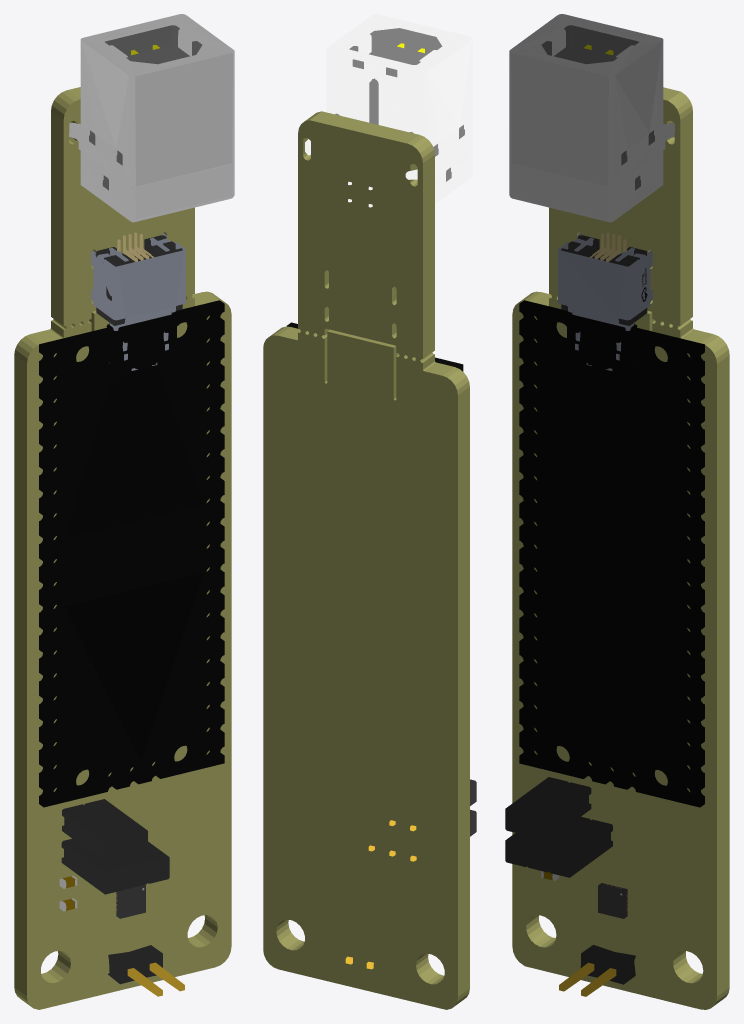
Rendered from OBJ_PCB_EasyEDA-Project - Pico audio maker.obj.
3 renders of one model, left to right at view 1: azimuth 30°, elevation 25°; view 2: azimuth 150°, elevation 25°; view 3: azimuth 330°, elevation 25°, orthographic. The views are drawn at different scales.
Size of the model in its own units: 93.29 by 420 by 55.9.
